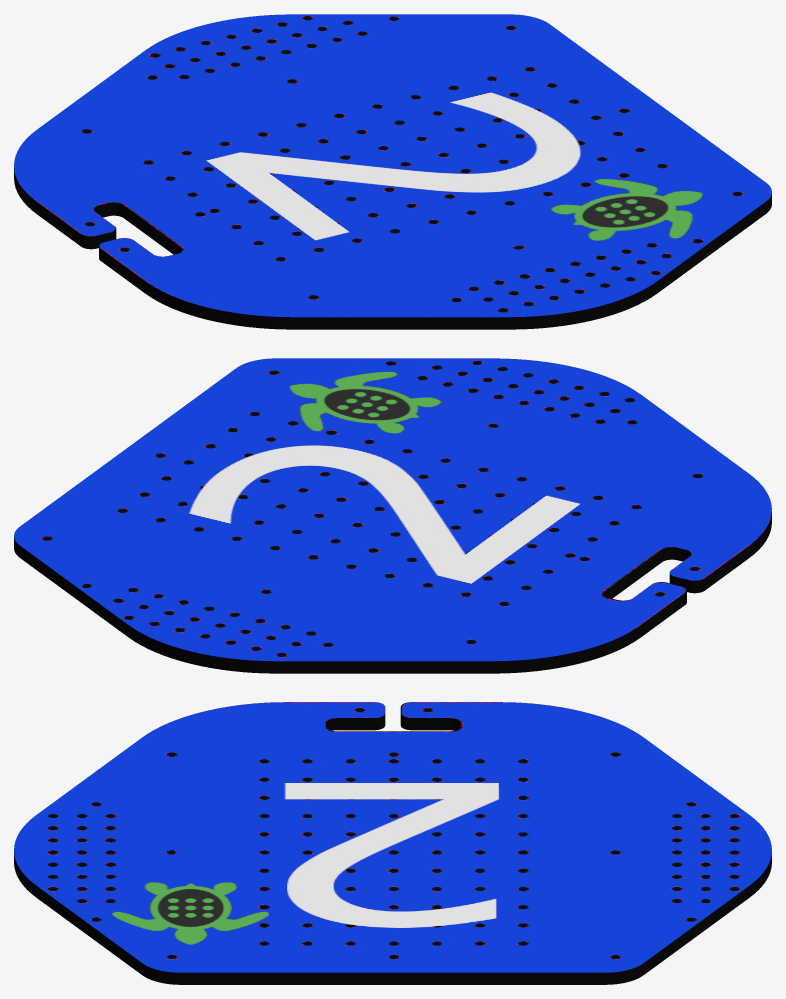
Rendered from plate_top_blue.dae.
3 views of the same model, one above another, from view 1: azimuth 30°, elevation 25°; view 2: azimuth 150°, elevation 25°; view 3: azimuth 270°, elevation 25° (orthographic). The views are drawn at different scales.
Visible parts, largest first — view 1: _f_stack; view 2: _f_stack; view 3: _f_stack.
Boxes of the visible parts, x1=… form: _f_stack: x1=14, y1=14, x2=771, y2=329; _f_stack: x1=14, y1=358, x2=771, y2=673; _f_stack: x1=14, y1=702, x2=771, y2=984.
Size of the model in its own units: 0.2873 by 0.34 by 0.006.
Materials: 1 (1 with a texture image).
